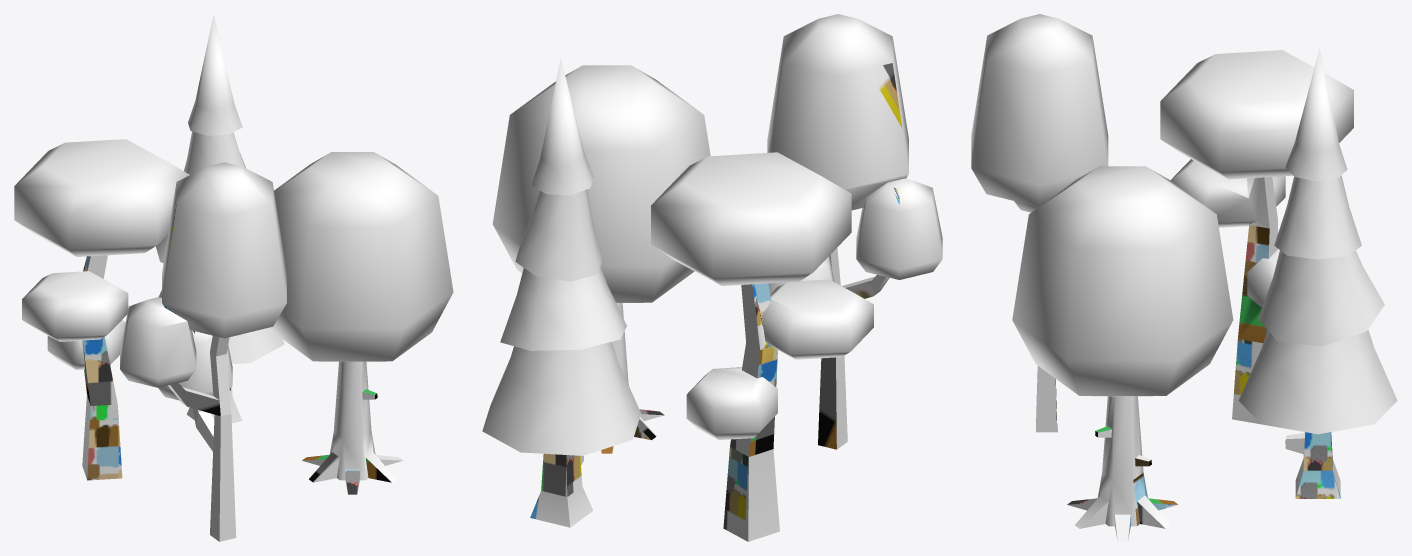
The model's file is group of trees.fbx.
The picture shows the model from 3 angles, left to right: view 1: azimuth 30°, elevation 25°; view 2: azimuth 150°, elevation 25°; view 3: azimuth 270°, elevation 25°; orthographic projection. The views are drawn at different scales.
Parts seen in each view (by area): view 1: group of trees; view 2: group of trees; view 3: group of trees.
Boxes of the visible parts, <box> form: group of trees: <box>14,14,453,541</box>; group of trees: <box>482,14,942,541</box>; group of trees: <box>971,14,1397,541</box>.
Size of the model in its own units: 1.48 by 1.63 by 1.43.
